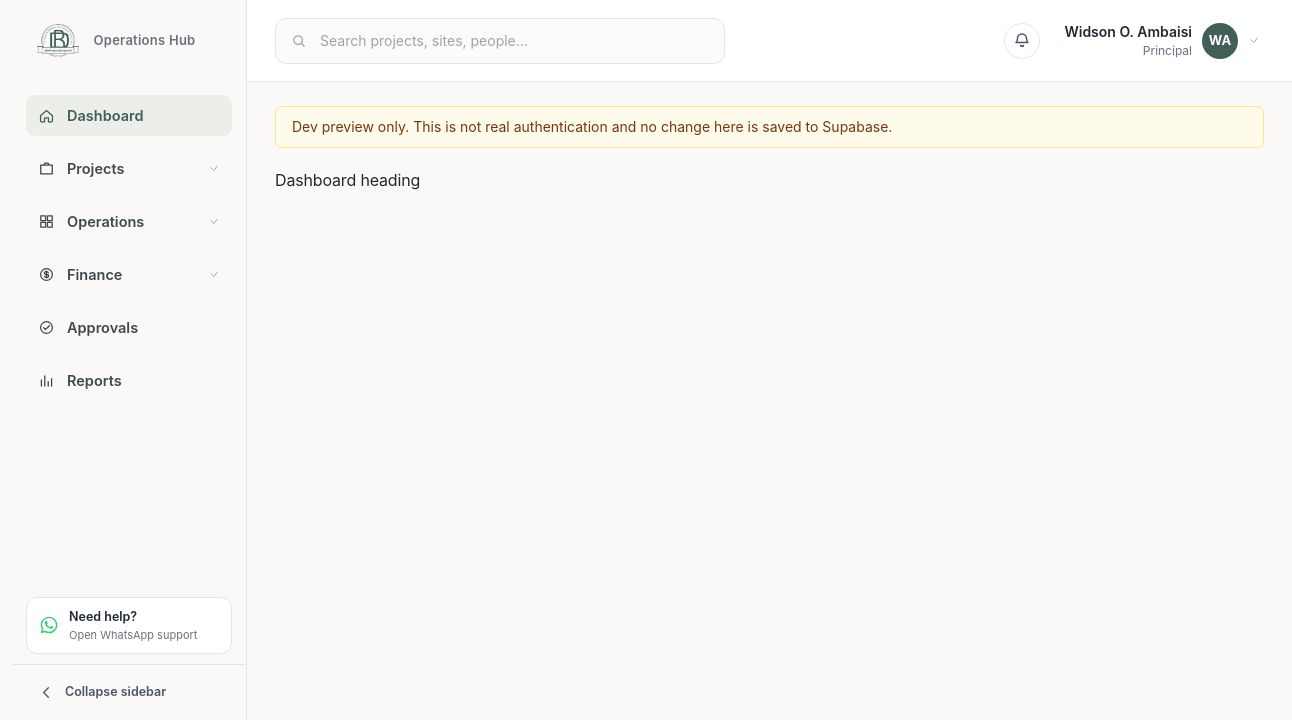
Test: Operating-model active and expanded state › opens one domain at a time and collapses on a second press
Click the button "Projects" at [129, 168], box [26, 148, 232, 189]
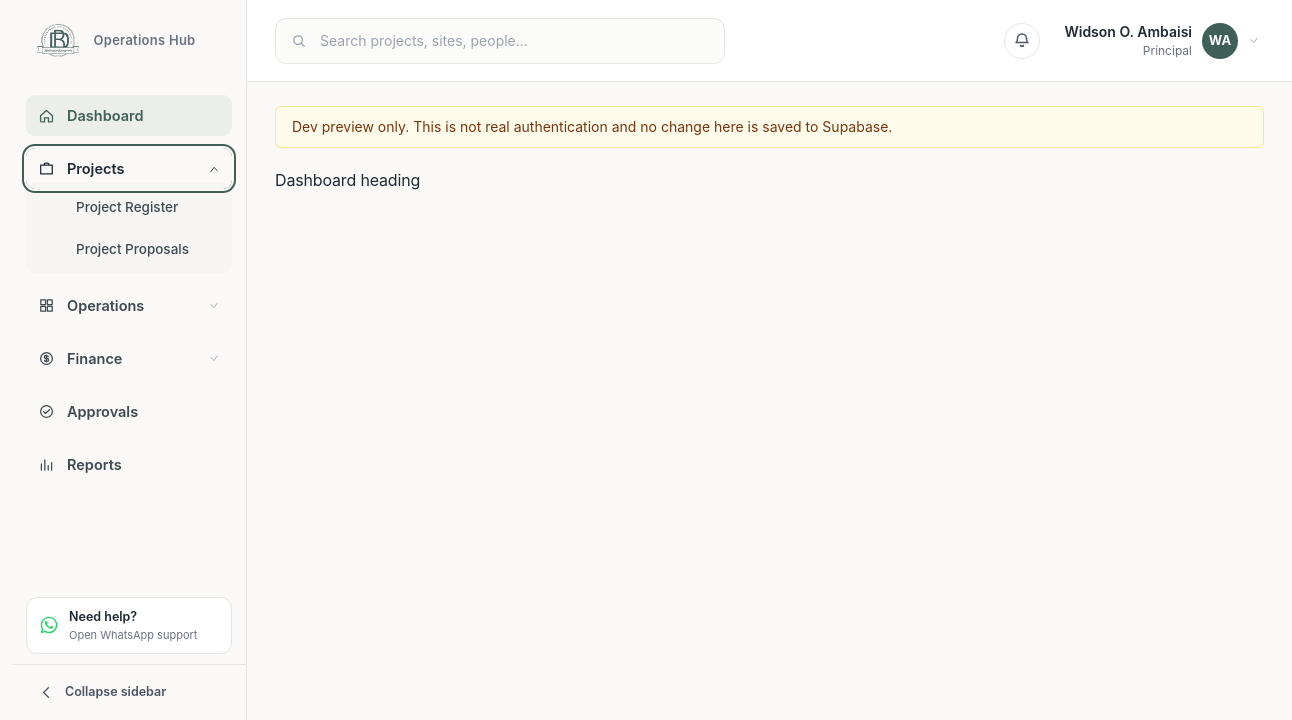
Expected: the button "Projects" is expanded, [26, 148, 232, 189]
Click the button "Finance" at [129, 358], box [26, 338, 232, 379]
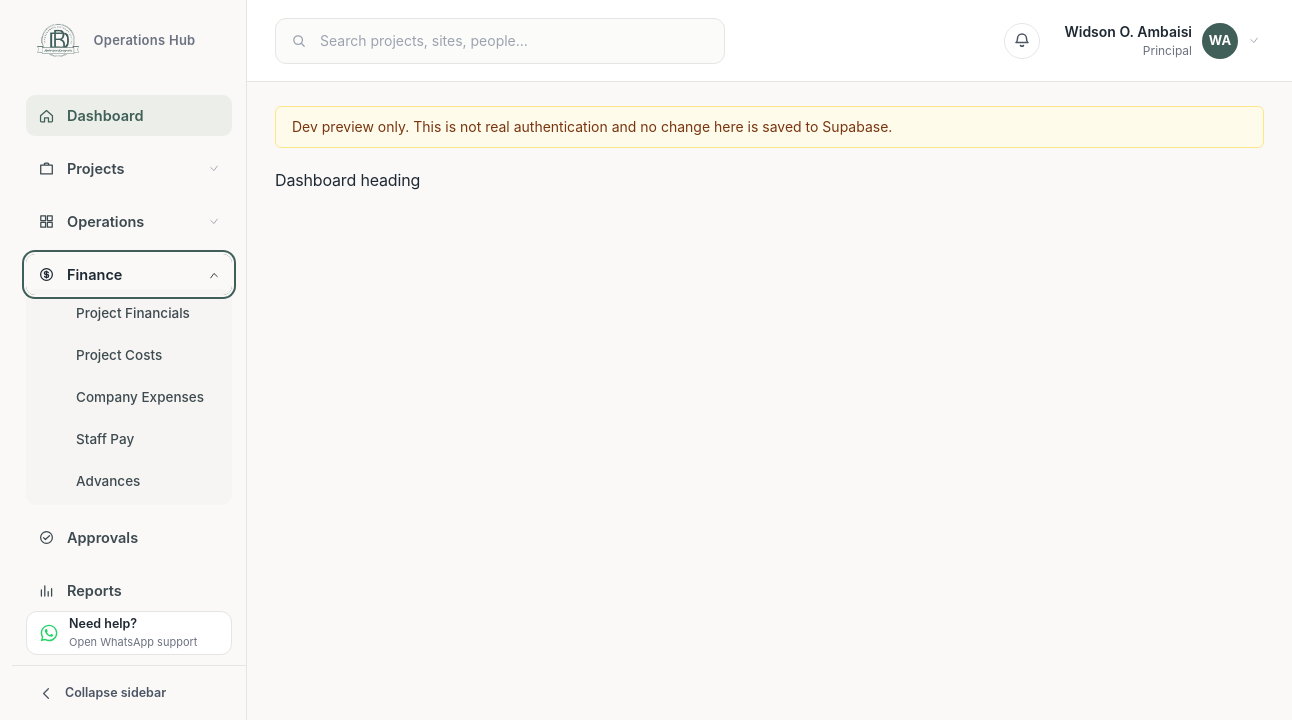
Expected: the button "Projects" is collapsed, [26, 148, 232, 189]
Expected: the button "Finance" is expanded
Click the button "Finance" at [129, 274], box [26, 254, 232, 295]
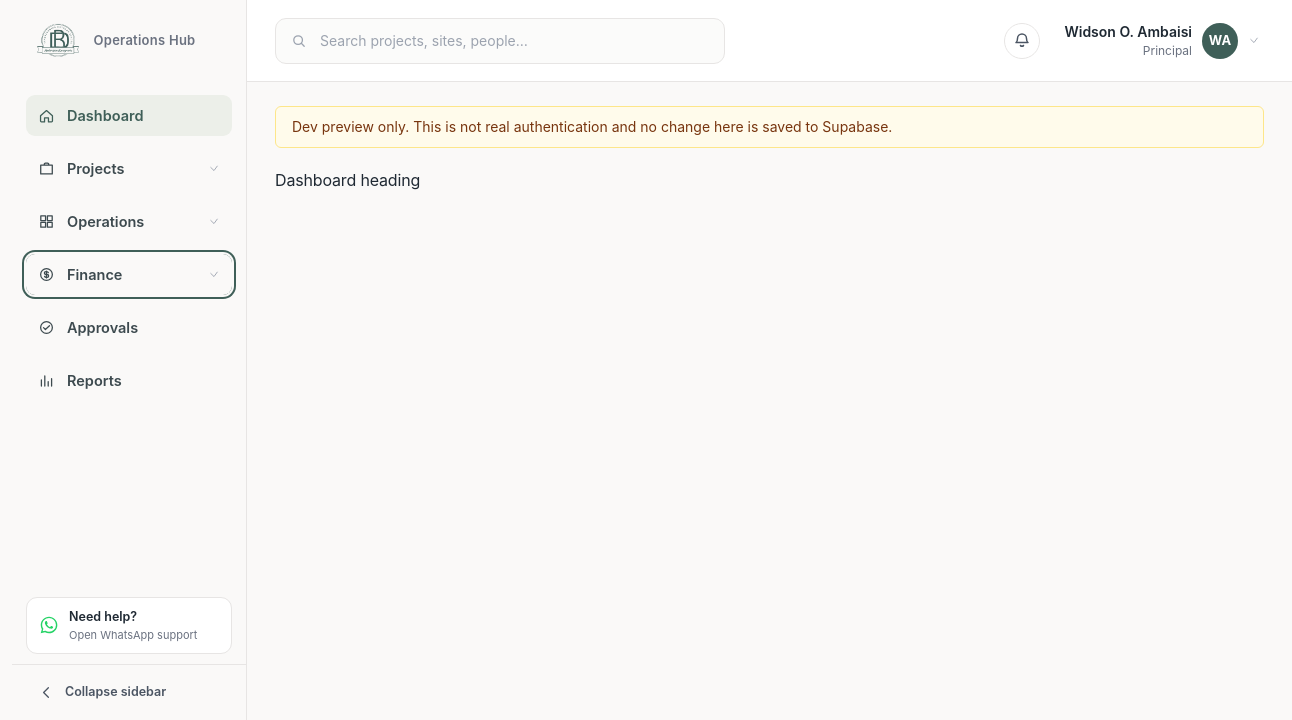
Expected: the button "Finance" is collapsed, [26, 254, 232, 295]
